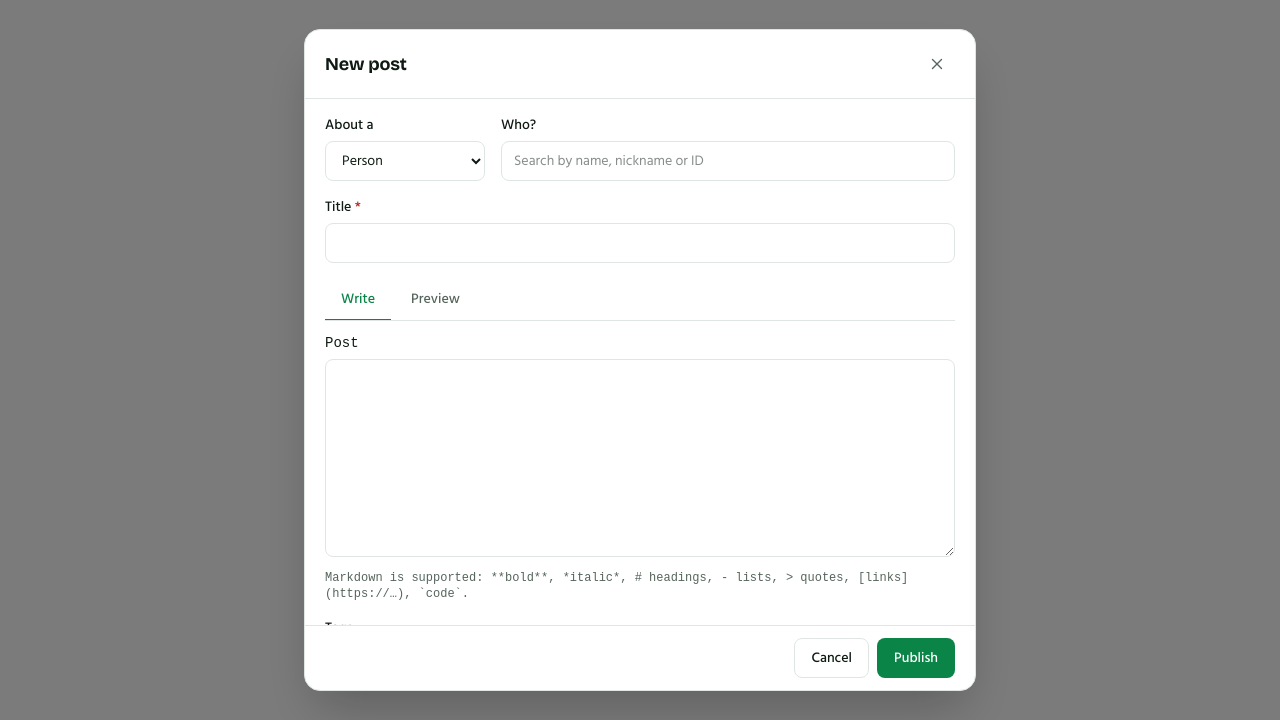
Test case: PostEditor › Preview tab switches view without submitting or closing
Type "Hello" into the field labelled "Title *" at (640, 243), box [325,223,955,263]
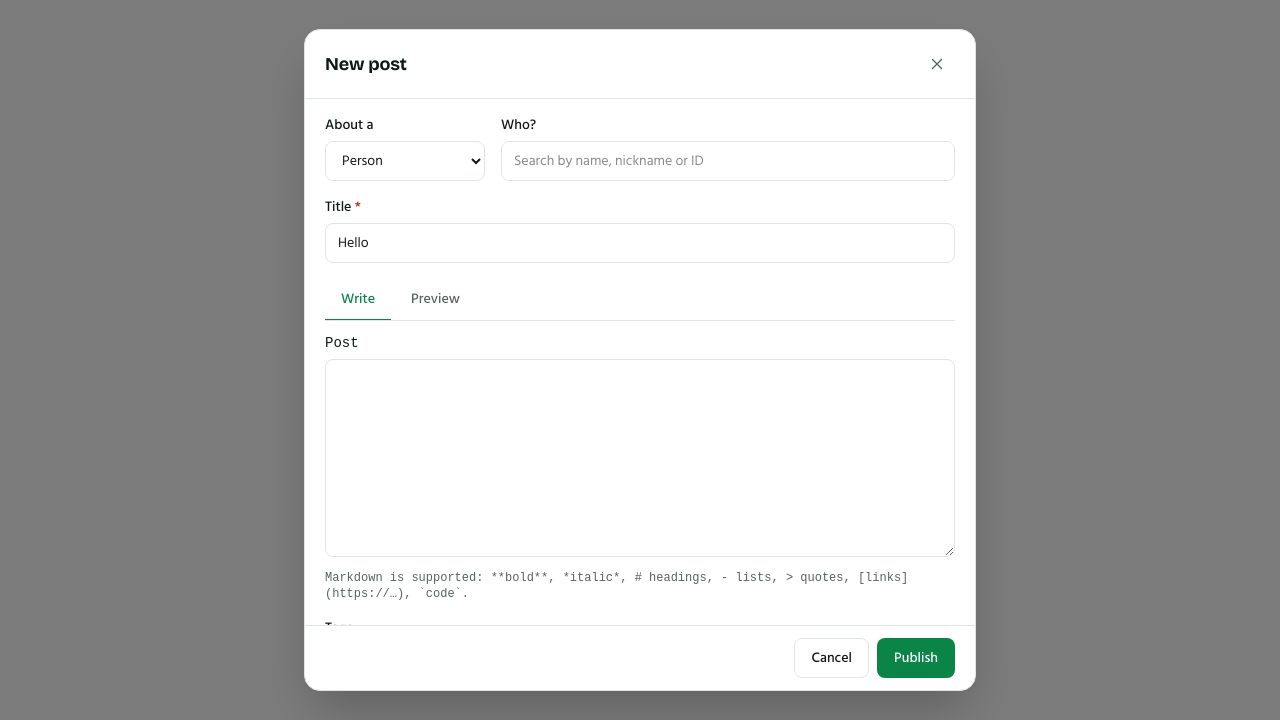
Type "**bold** <b>raw</b>" into the text box labelled "Post" at (640, 458), box [325,359,955,557]
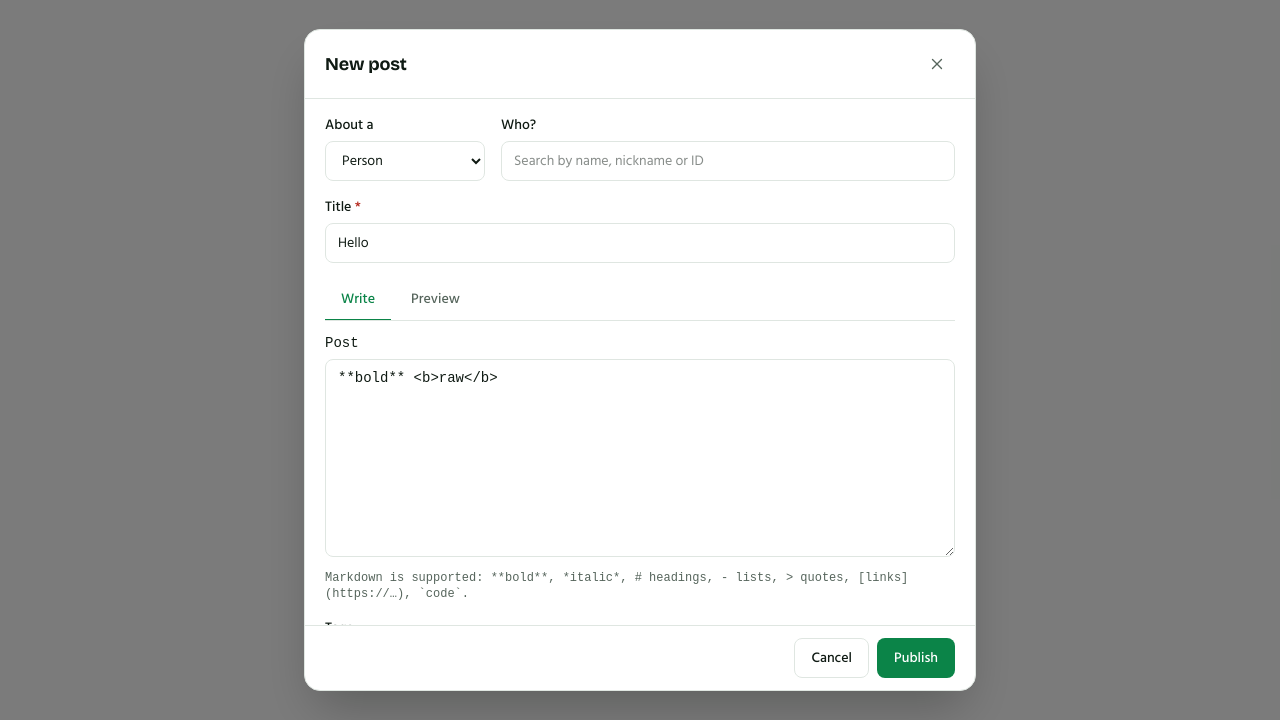
Click the tab "Preview" at (435, 300), box [395,279,476,321]
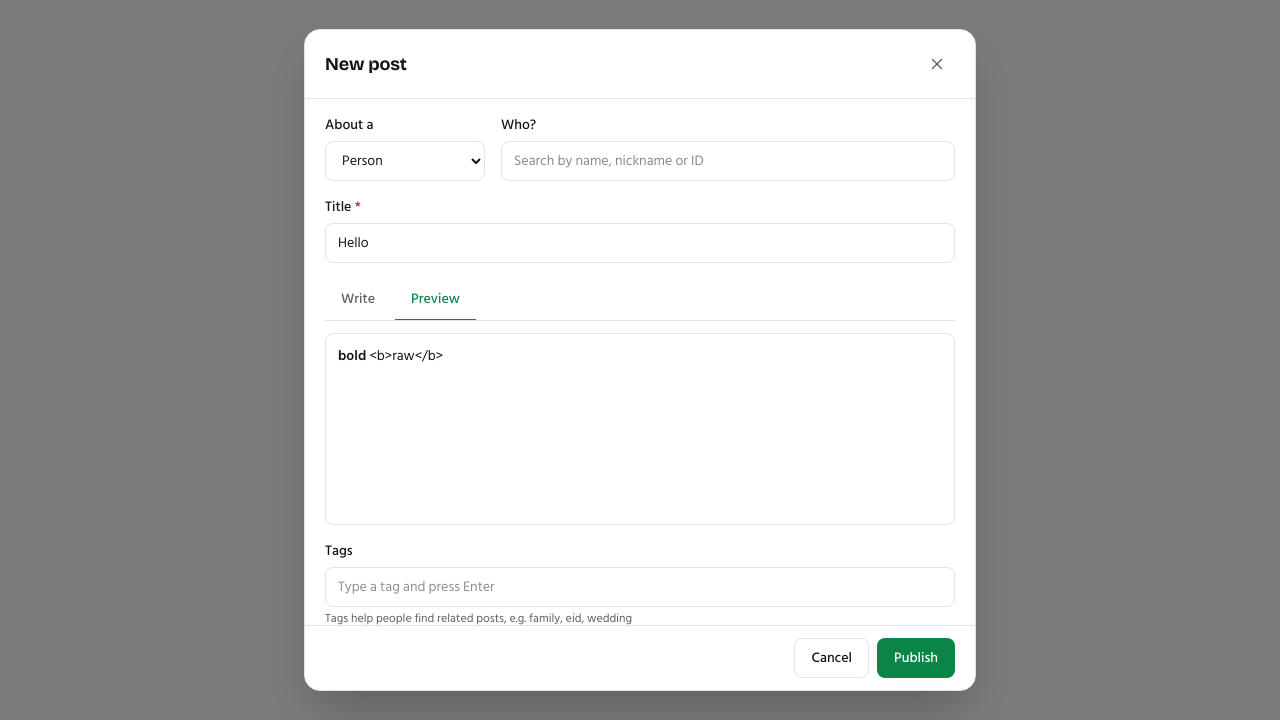
Click the tab "Write" at (358, 300), box [325,279,391,321]
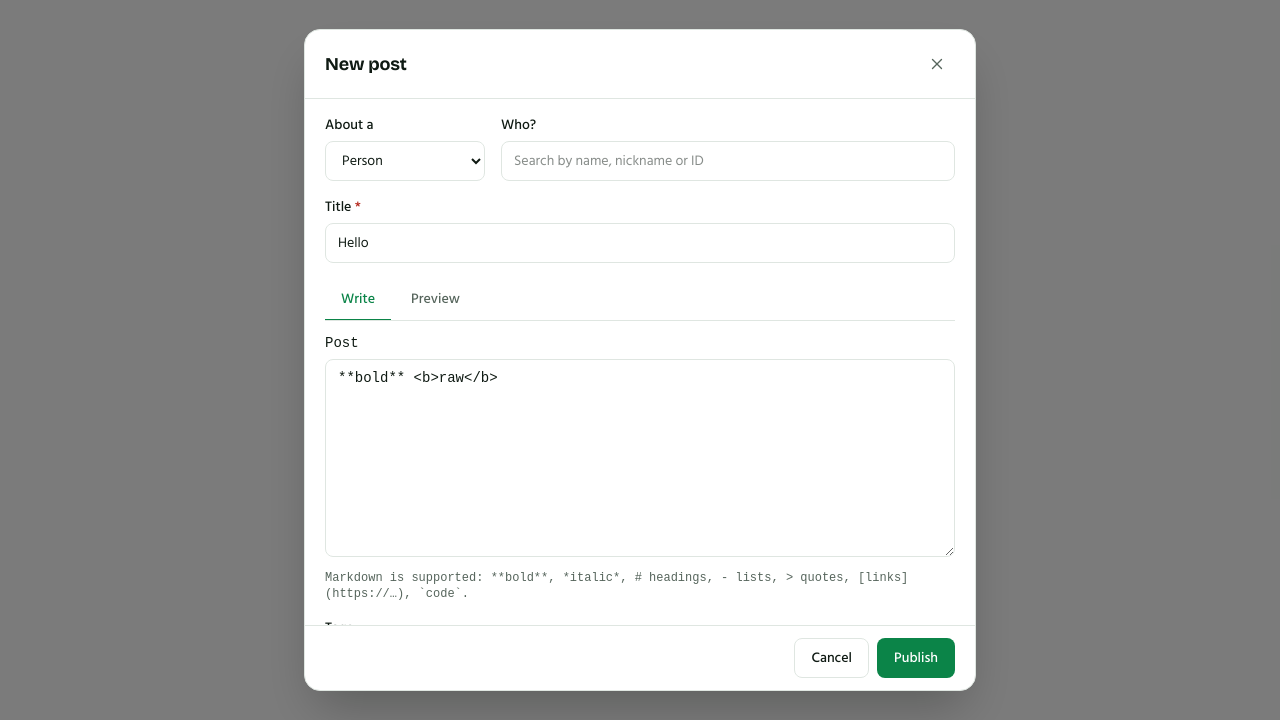
Result: the text box labelled "Post" is shown at [325,359,955,557]
